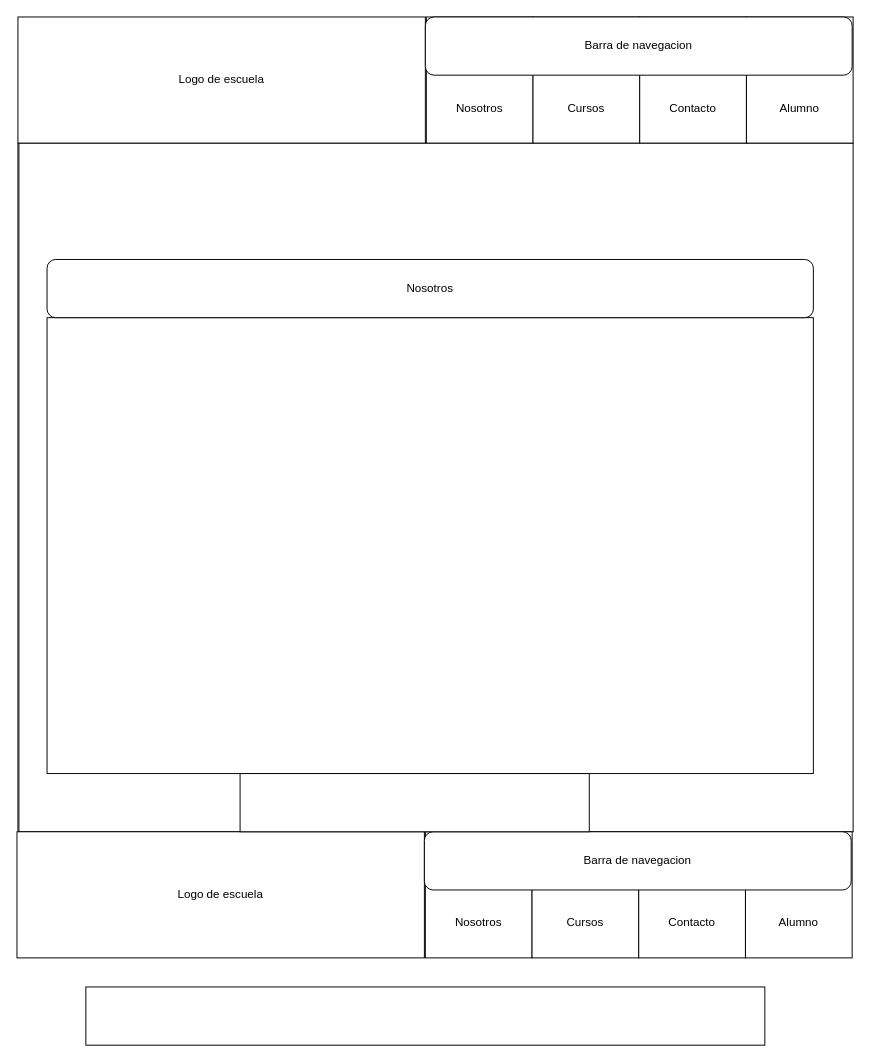
Some shapes in this 870 by 1062 pixel diagram are drawn without their labels. The shapes that lost their labels are listed below. From the top down, each one's box as (x1, y1, x2, y2) in pixels, then its label:
(46, 317, 813, 774): texto
(239, 773, 589, 832): Boton de inscribete
(85, 986, 765, 1045): redes sociales
